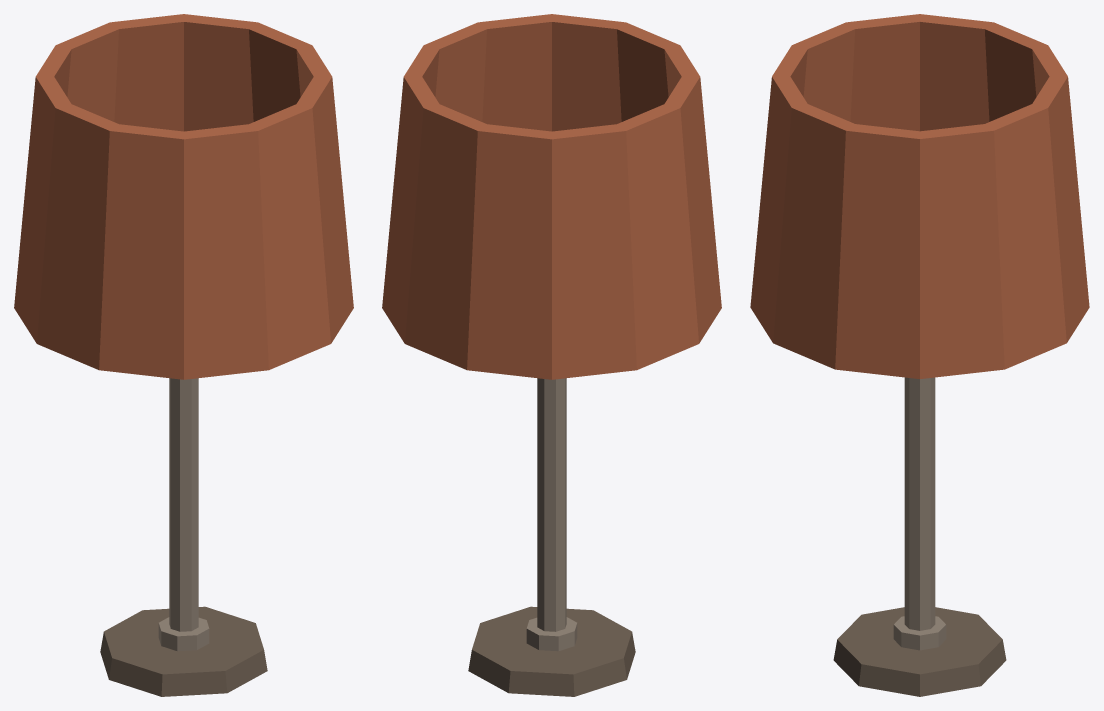
The model's file is Light_08.fbx.
3 renders of one model, left to right at view 1: azimuth 30°, elevation 25°; view 2: azimuth 150°, elevation 25°; view 3: azimuth 270°, elevation 25°, orthographic.
Visible parts, largest first — view 1: Light_08; view 2: Light_08; view 3: Light_08.
Part boxes in pixels (x1,y1,x2,y2): Light_08: (14, 14, 353, 696); Light_08: (382, 14, 721, 696); Light_08: (750, 14, 1089, 696).
Size of the model in its own units: 0.2743 by 0.521 by 0.2743.
